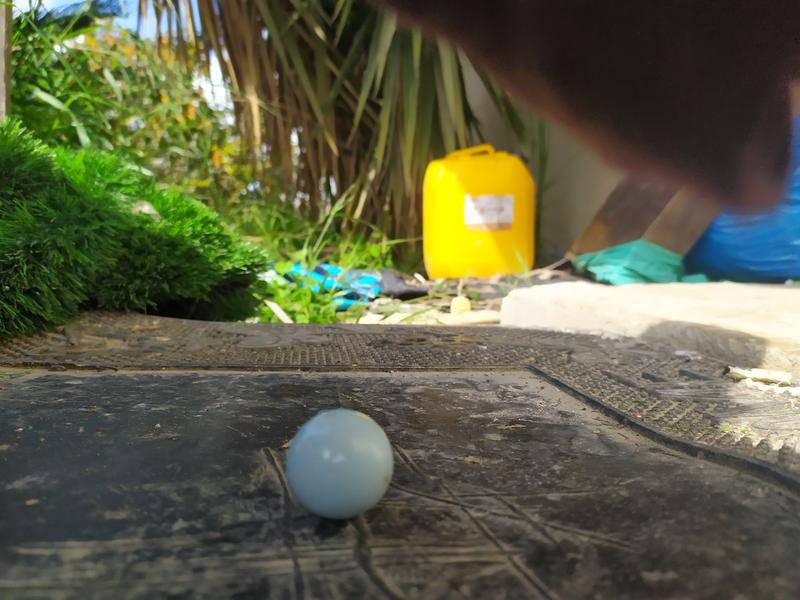Warning: (281, 404, 398, 524)
